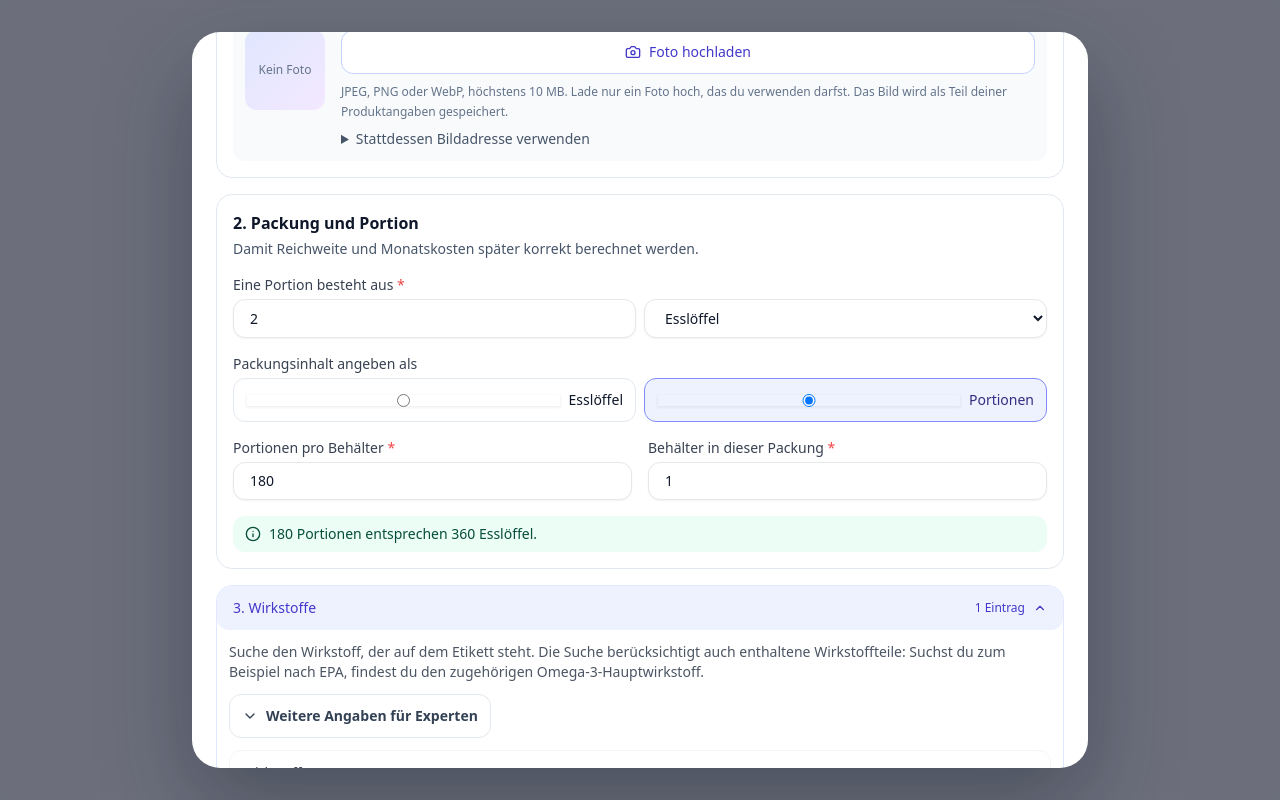
UserProductForm sub-ingredient roundtrip › zeigt die bidirektionale Packungsrechnung auch für Esslöffel
(page scrolled)
Click the radio button labelled "Esslöffel".
click(403, 400)  # box [246, 394, 561, 406]
(page scrolled)
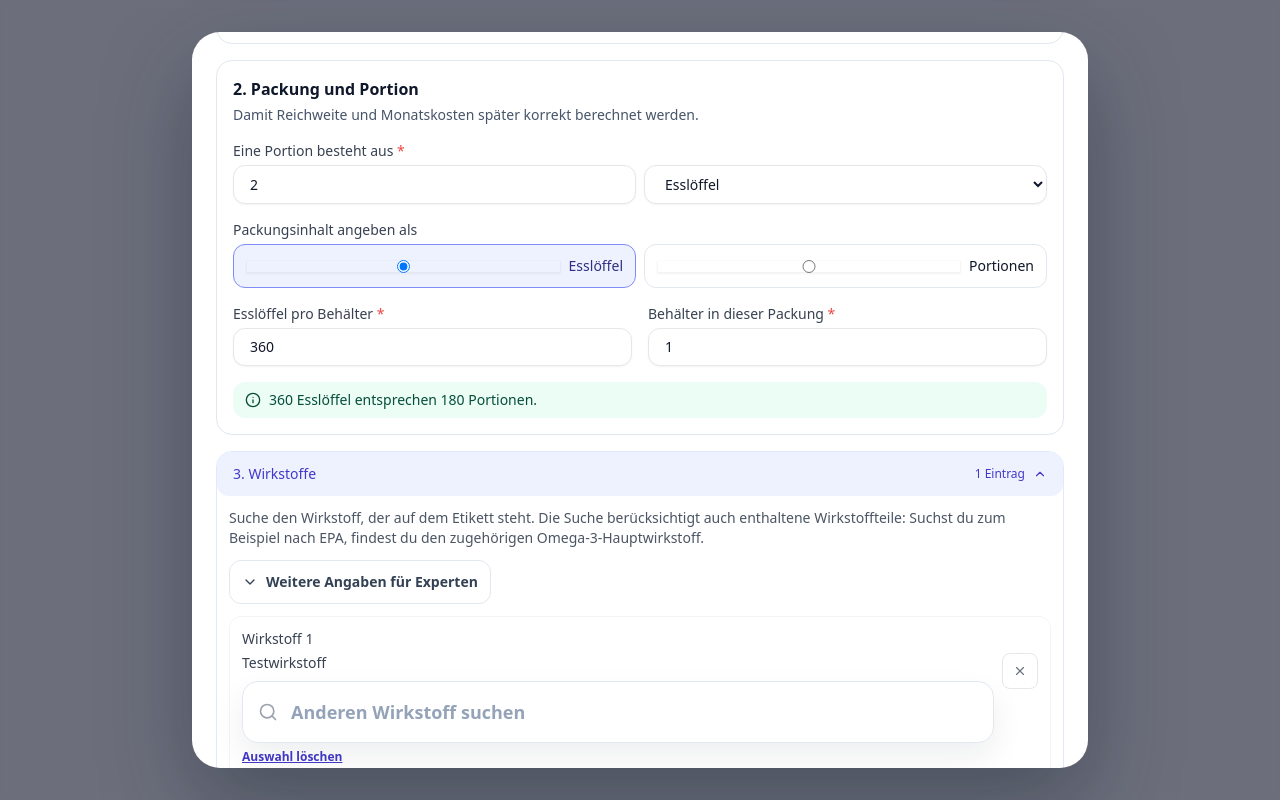
Check: the number field showing "360" is shown, box [233, 328, 632, 366]
